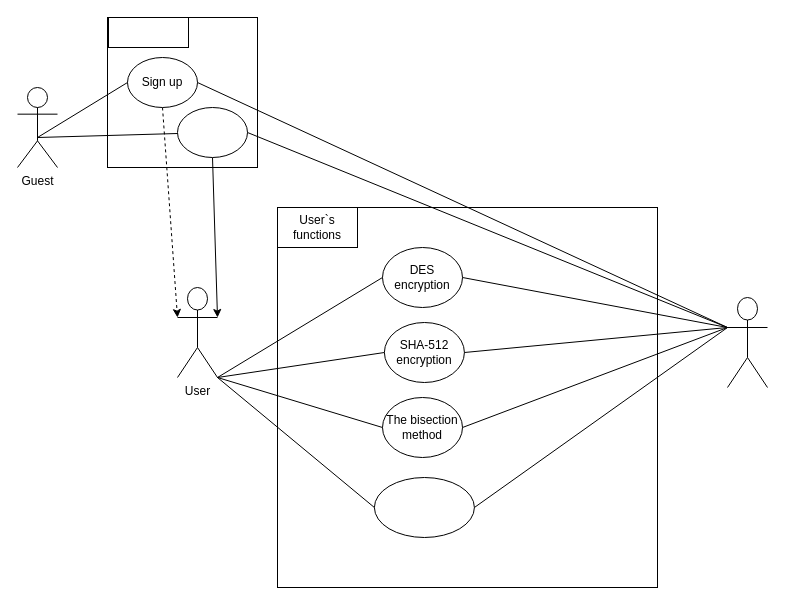
The diagram is 785 pixels wide and 605 high, and some of its shapes have lost their labels. Each missing label, with the centre of its shape:
"Finding the shortest distance in a graph" goes at [423,507].
"Server" goes at [747,342].
"Sign in" goes at [212,132].
"Sign in/up sy stem" goes at [148,32].
